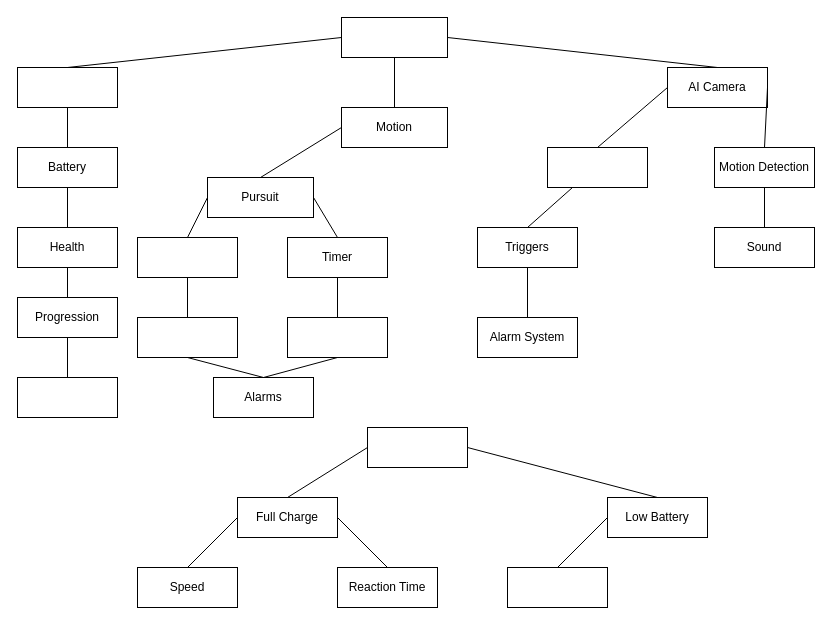
This 832x625 diagram has some shape labels left out. Each missing label, with the centre of its shape:
AI: pixel 417 447
AI (Robot): pixel 394 37
Area: pixel 597 167
Detection: pixel 337 337
Inventory: pixel 67 87
Less Speed: pixel 557 587
Lighting: pixel 187 257
Movements: pixel 187 337
